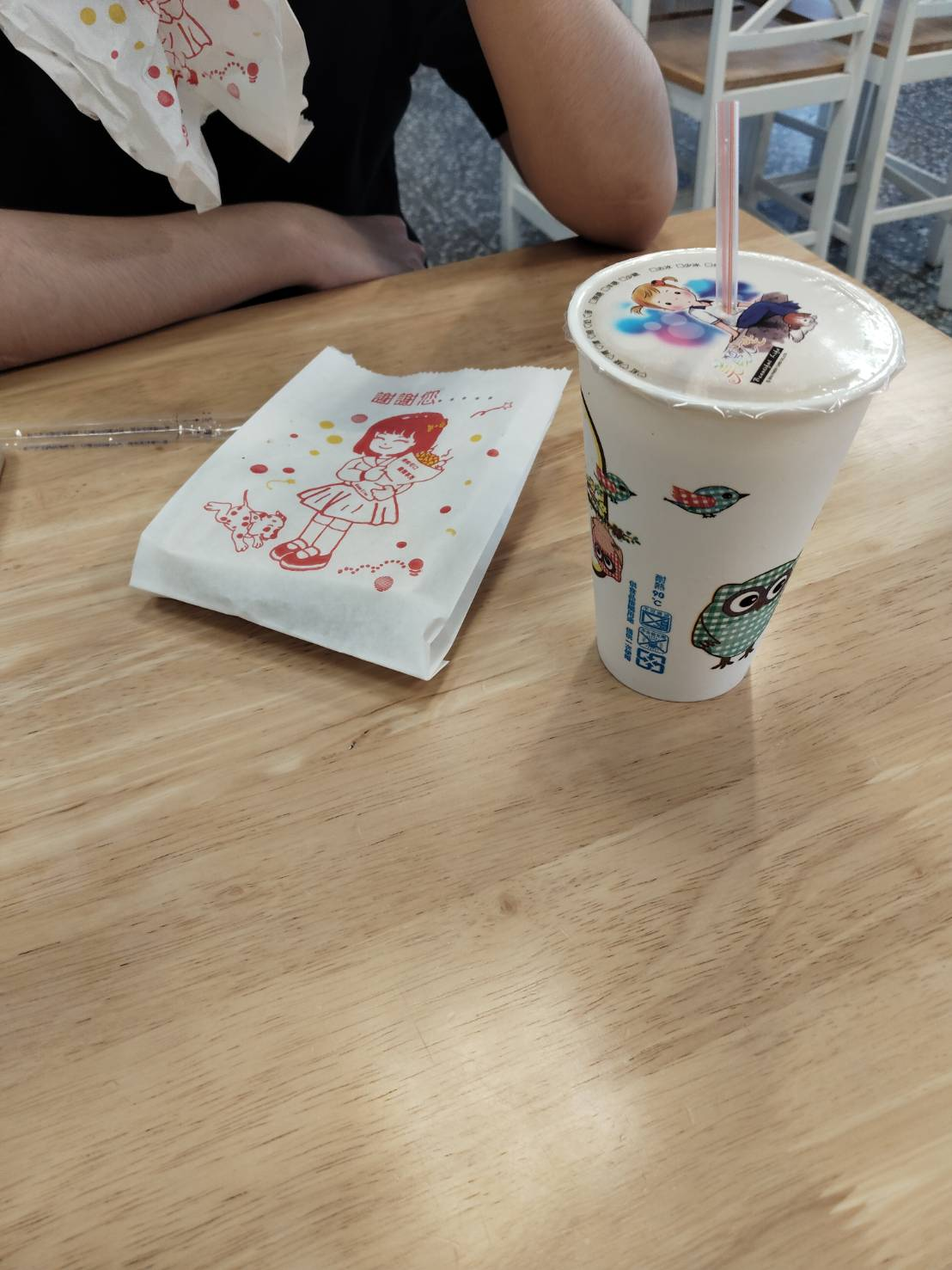General waste: (0, 396, 274, 459)
paper: (545, 197, 898, 766), (115, 329, 581, 732)
plastic: (684, 87, 775, 332)
